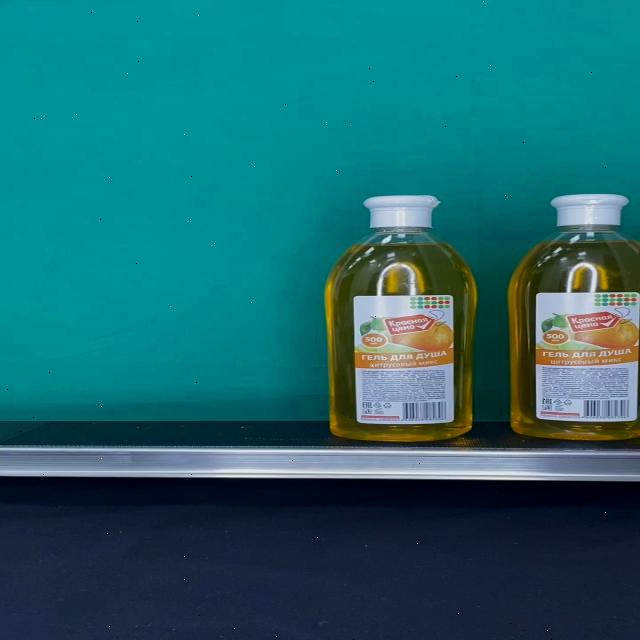Bottle: (326, 194, 477, 440), (508, 194, 640, 441)
Cap: (362, 195, 440, 229), (548, 194, 630, 226)
